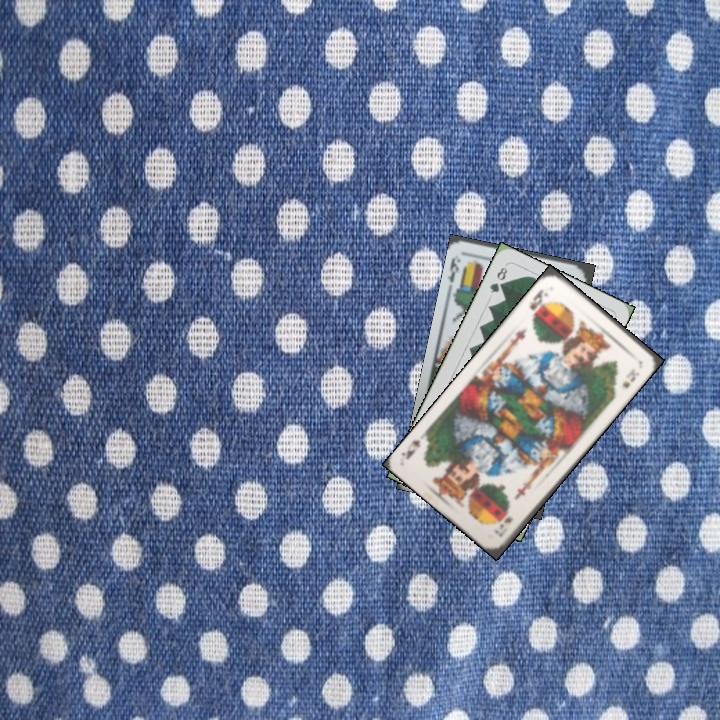EK: (444, 253, 462, 285)
G8: (486, 261, 510, 296)
SK: (525, 285, 551, 321), (490, 512, 516, 539)
